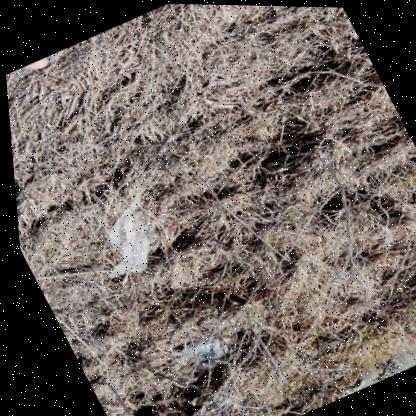Plastic: (326, 339, 416, 399), (102, 193, 154, 276), (170, 336, 222, 368)
